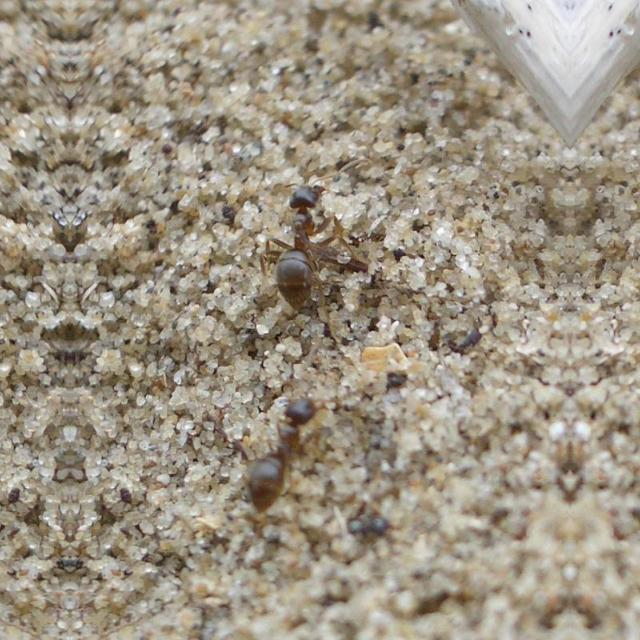Lasius: (239, 157, 359, 329), (220, 374, 350, 518)
